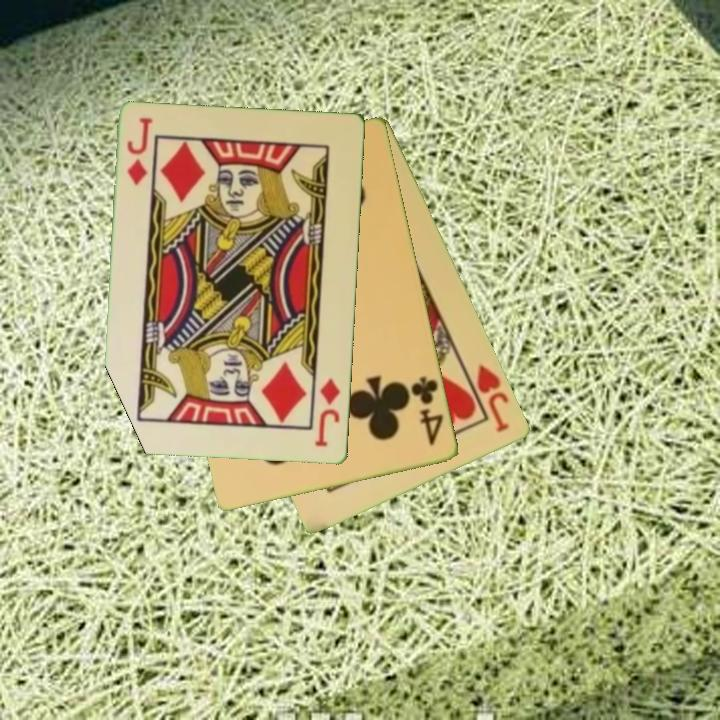4c: (408, 373, 447, 449)
Jd: (312, 376, 344, 451), (124, 114, 156, 189)
Jh: (461, 361, 513, 436)
